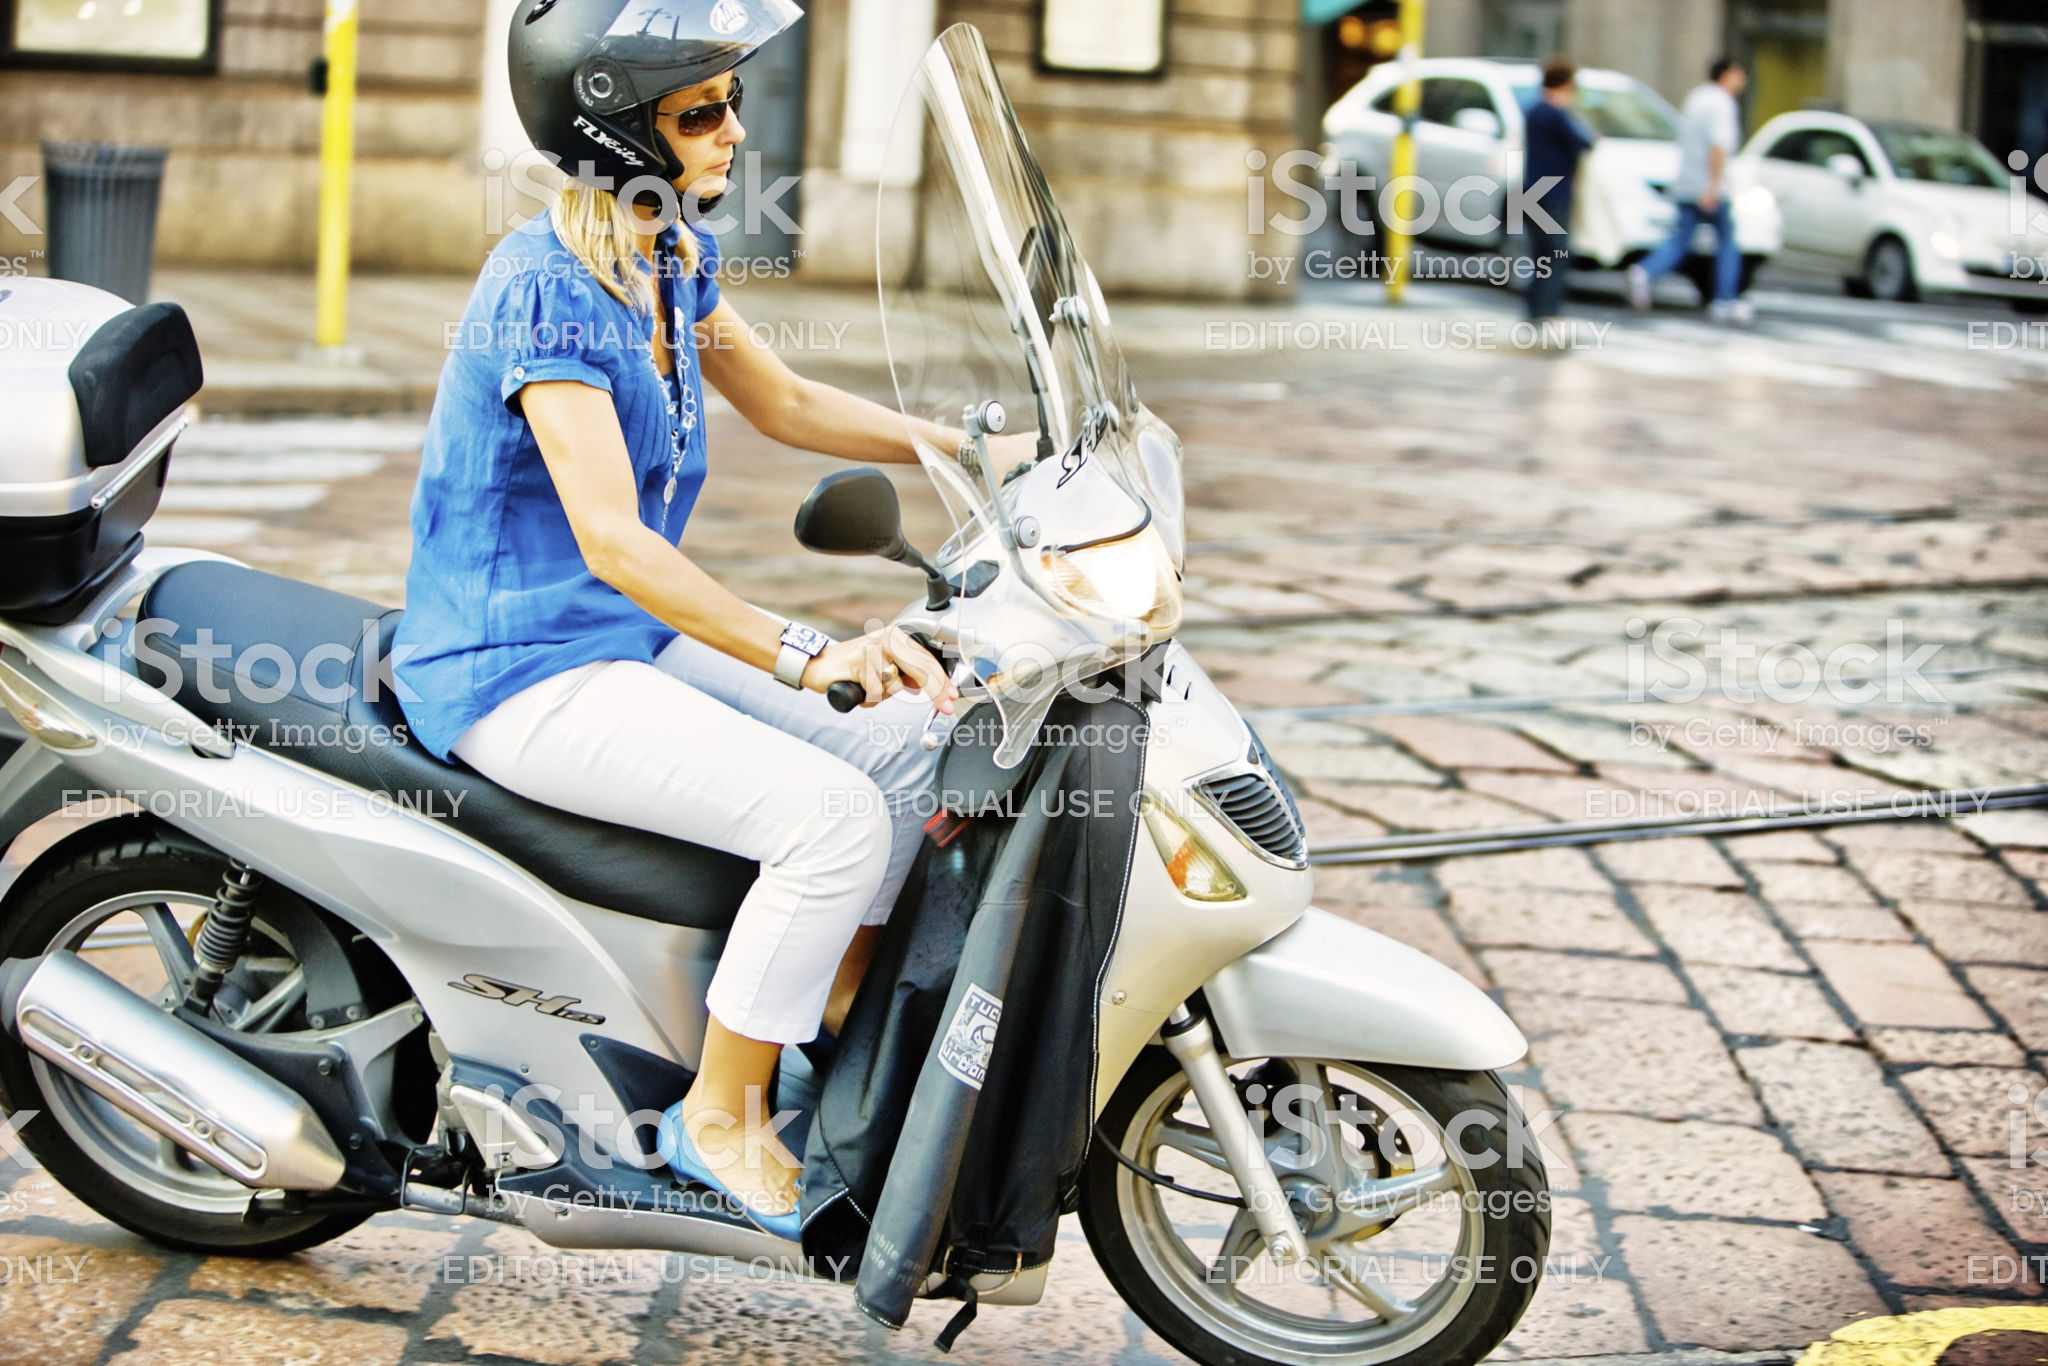helmet: (494, 14, 798, 204)
